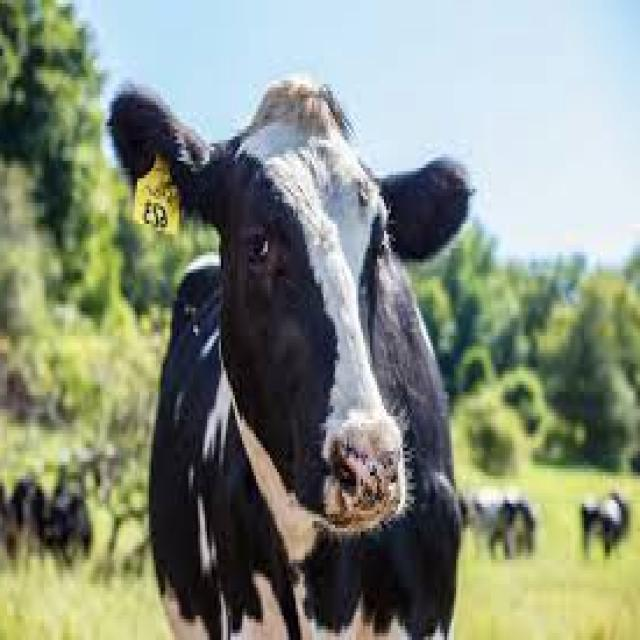cow: (112, 77, 472, 637)
